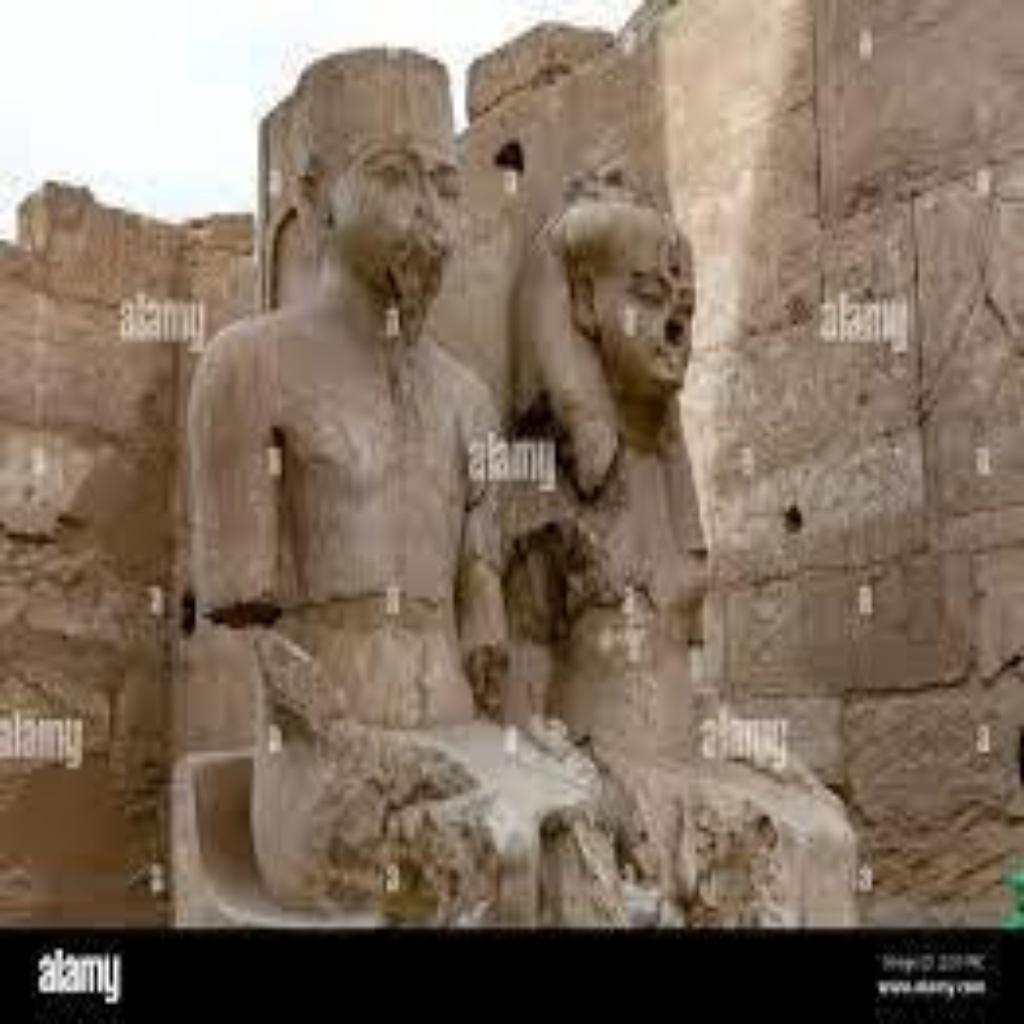Statue of Ankhesenamun: (496, 181, 864, 928)
Statue of Tutankhamun: (176, 38, 622, 922)
